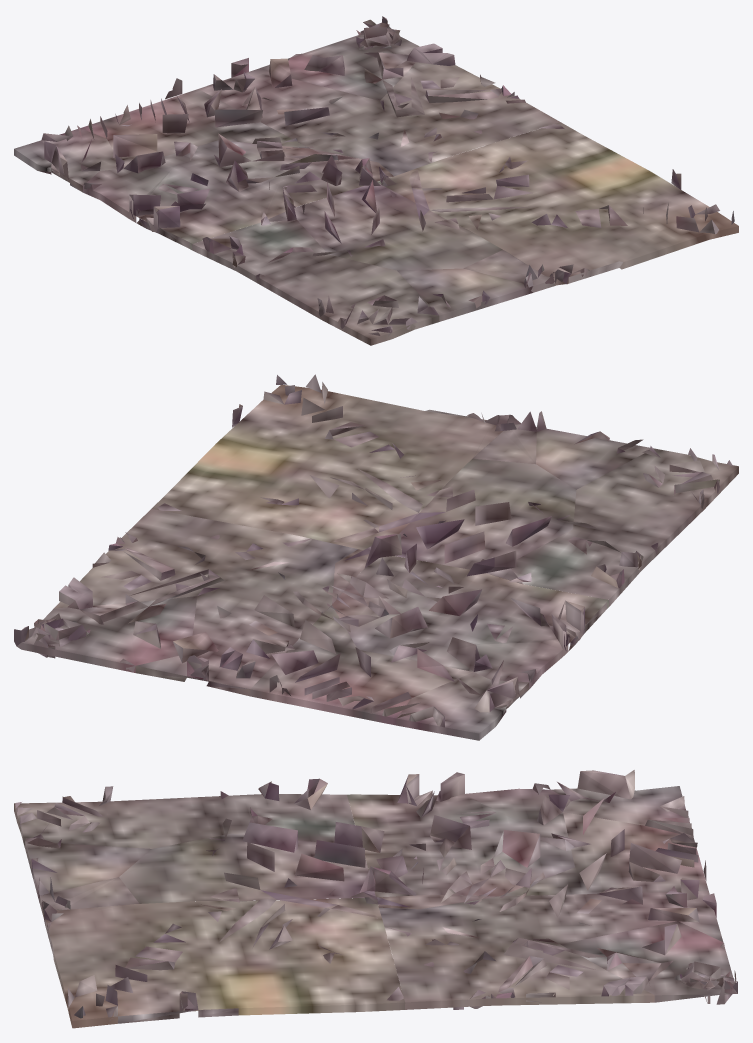
3 renders of one model, top to bottom at view 1: azimuth 30°, elevation 25°; view 2: azimuth 150°, elevation 25°; view 3: azimuth 270°, elevation 25°, orthographic. The views are drawn at different scales.
Visible parts, largest first — view 1: Mesh_0; view 2: Mesh_0; view 3: Mesh_0.
Part boxes in pixels (bbox=[...]): Mesh_0: bbox=[14, 16, 738, 345]; Mesh_0: bbox=[14, 374, 738, 740]; Mesh_0: bbox=[14, 770, 737, 1028].
Size of the model in its own units: 1066 by 93.81 by 1320.
1 material, 1 textured.
